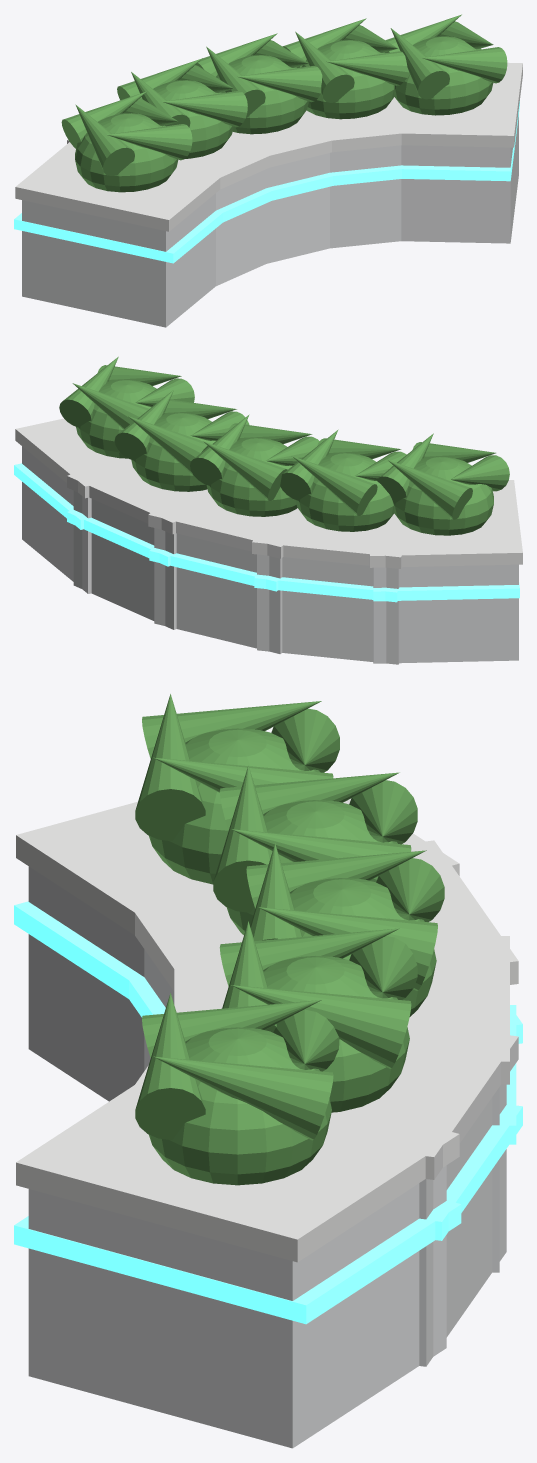
Rendered from planter-curved.glb.
The picture shows the model from 3 angles, top to bottom: view 1: azimuth 30°, elevation 25°; view 2: azimuth 150°, elevation 25°; view 3: azimuth 270°, elevation 25°; orthographic projection. The views are drawn at different scales.
Visible parts, largest first — view 1: planter-curved; view 2: planter-curved; view 3: planter-curved.
Boxes of the visible parts, x1=… form: planter-curved: x1=14, y1=14, x2=522, y2=327; planter-curved: x1=14, y1=356, x2=522, y2=664; planter-curved: x1=14, y1=694, x2=522, y2=1448.
Size of the model in its own units: 5.43 by 1.76 by 2.43.
